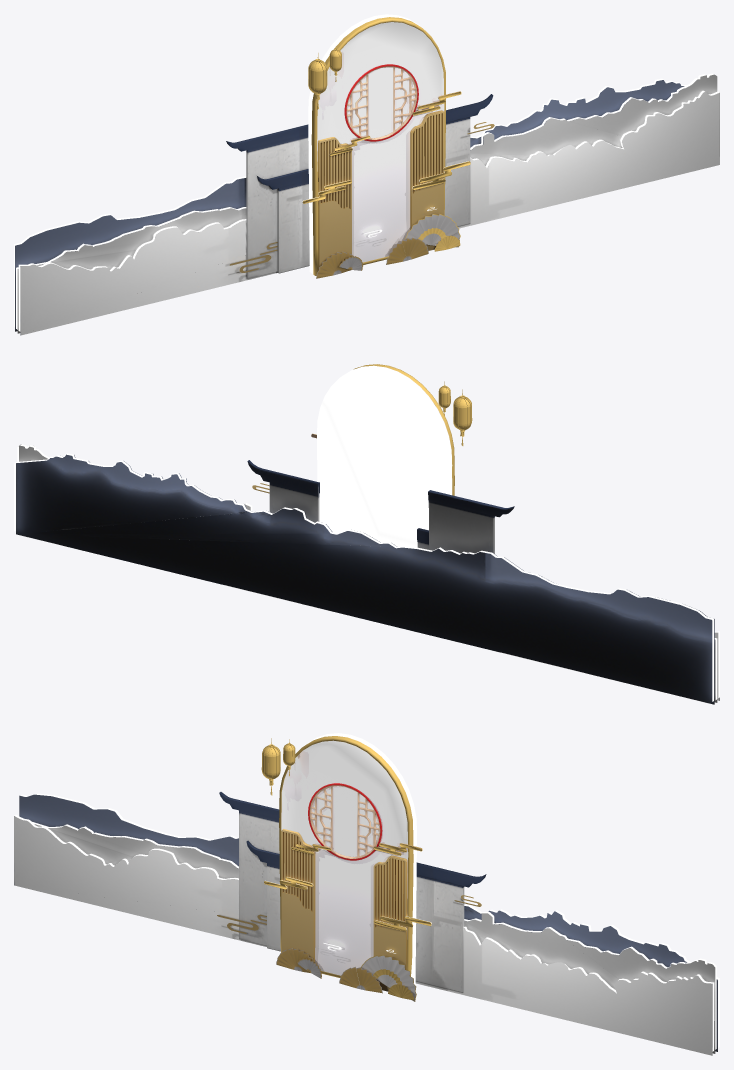
Rendered from white_tradition.glb.
3 renders of one model, top to bottom at view 1: azimuth 30°, elevation 25°; view 2: azimuth 150°, elevation 25°; view 3: azimuth 330°, elevation 25°, orthographic.
Visible parts, largest first — view 1: chenshe001, chenshe002, chenshe003, deng; view 2: chenshe001, deng, chenshe003, chenshe002; view 3: chenshe001, chenshe002, chenshe003, deng.
Part boxes in pixels (x1,y1,x2,y2): chenshe001: (15, 74, 719, 335); chenshe002: (311, 17, 461, 275); chenshe003: (302, 48, 470, 278); deng: (14, 14, 719, 331); chenshe001: (16, 444, 719, 704); deng: (14, 365, 719, 701); chenshe003: (438, 381, 472, 446); chenshe002: (311, 364, 454, 495); chenshe001: (14, 792, 717, 1055); chenshe002: (279, 736, 422, 991); chenshe003: (261, 738, 431, 1001); deng: (14, 733, 719, 1051).
Bounding box in the file's own units: 8.56 × 2.85 × 0.6712.
16 materials, 12 textured.
